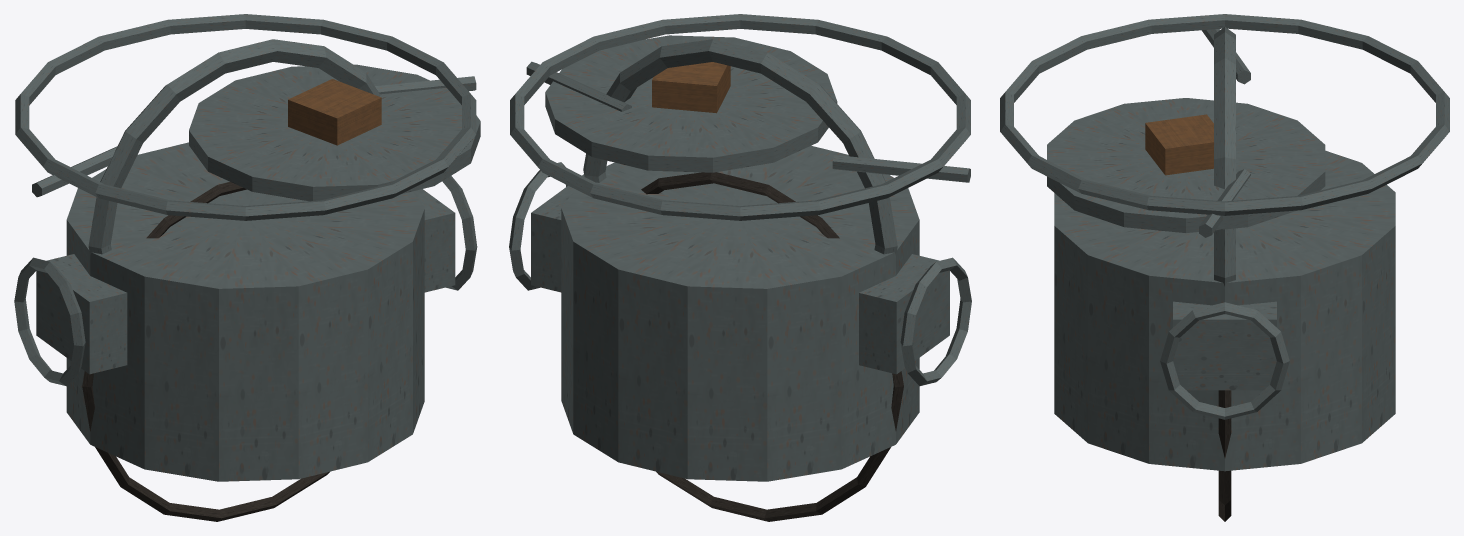
The model's file is pr-015_cook_pot__empty.obj.
3 renders of one model, left to right at view 1: azimuth 30°, elevation 25°; view 2: azimuth 150°, elevation 25°; view 3: azimuth 270°, elevation 25°, orthographic. The views are drawn at different scales.
Visible parts, largest first — view 1: pr-015_cook_pot__empty; view 2: pr-015_cook_pot__empty; view 3: pr-015_cook_pot__empty.
Boxes of the visible parts, x1=… form: pr-015_cook_pot__empty: x1=14, y1=14, x2=480, y2=521; pr-015_cook_pot__empty: x1=509, y1=14, x2=971, y2=521; pr-015_cook_pot__empty: x1=1000, y1=14, x2=1449, y2=521.
Size of the model in its own units: 0.766 by 0.7785 by 0.6933.
3 materials, 3 textured.
